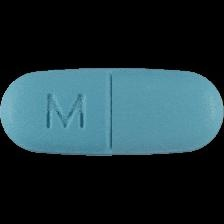54868-2207: (0, 0, 224, 224)
